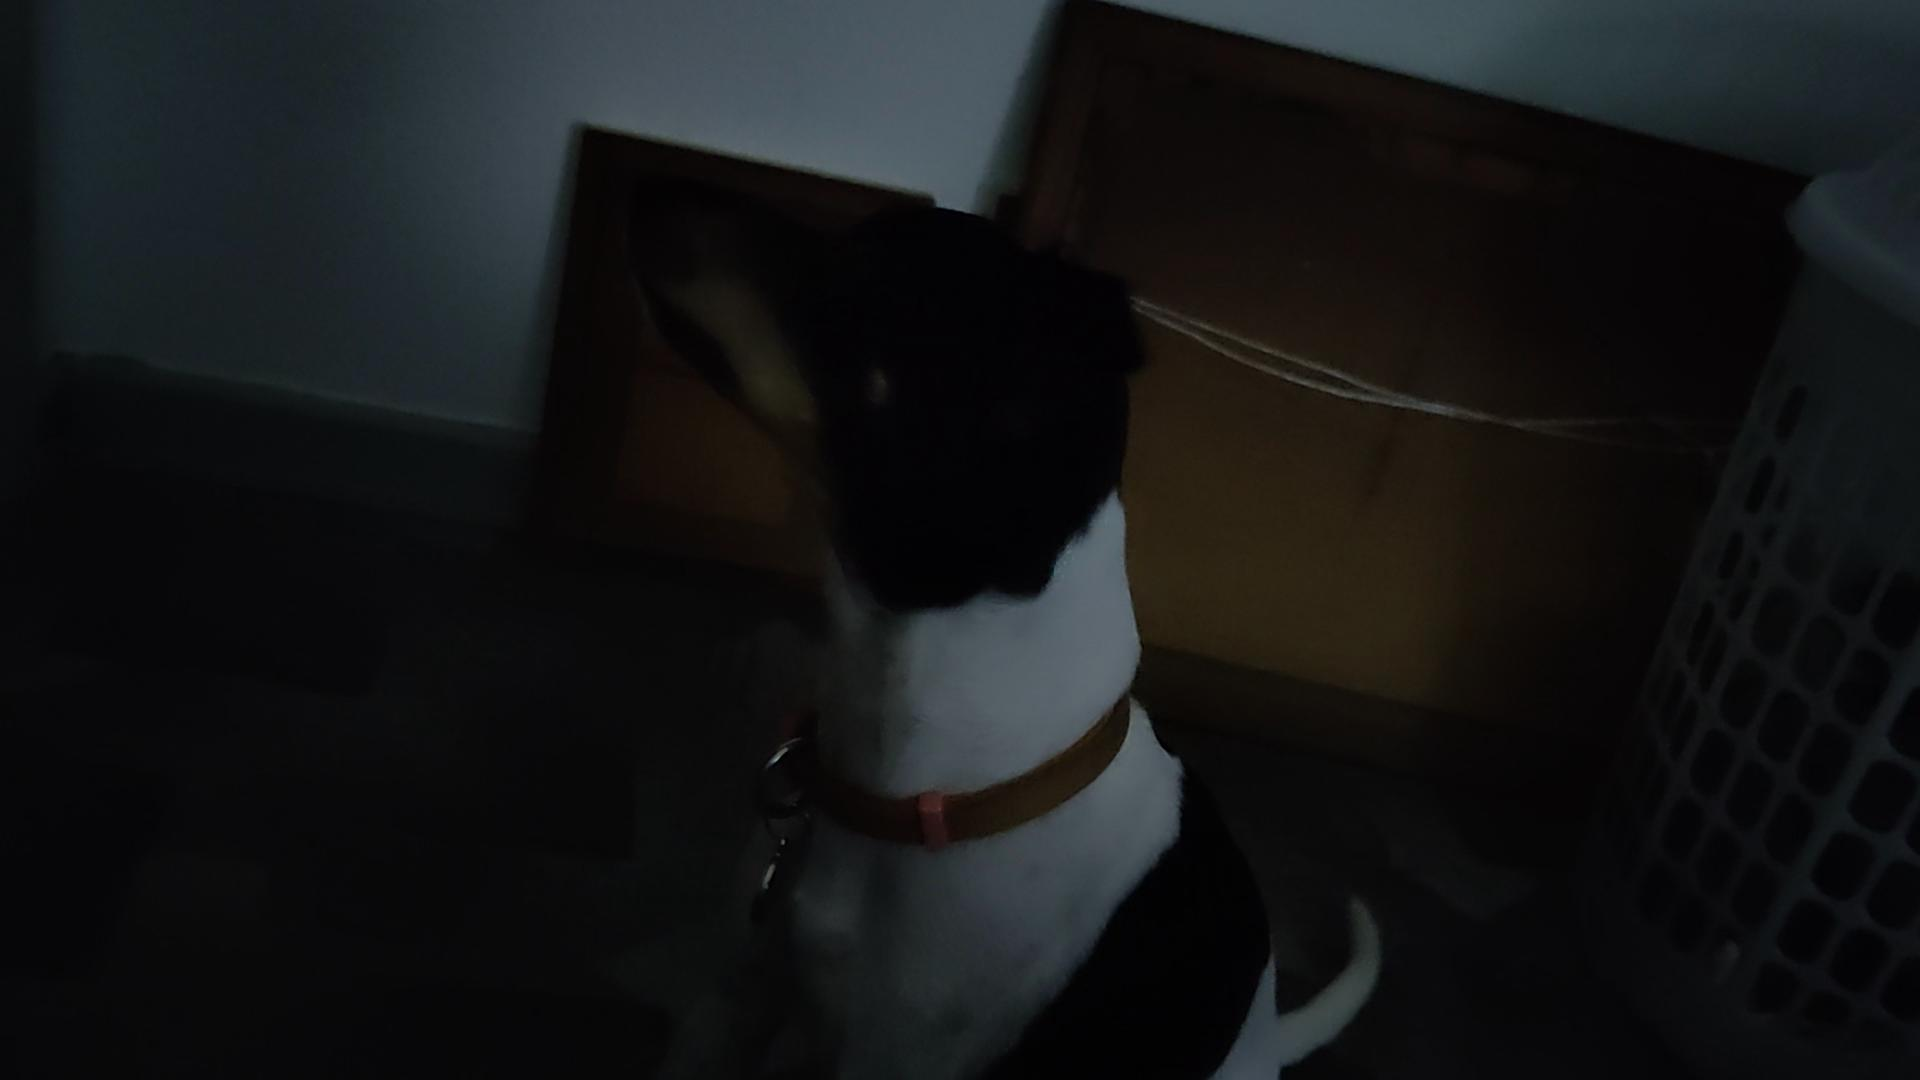Dog: (580, 133, 1427, 1079)
